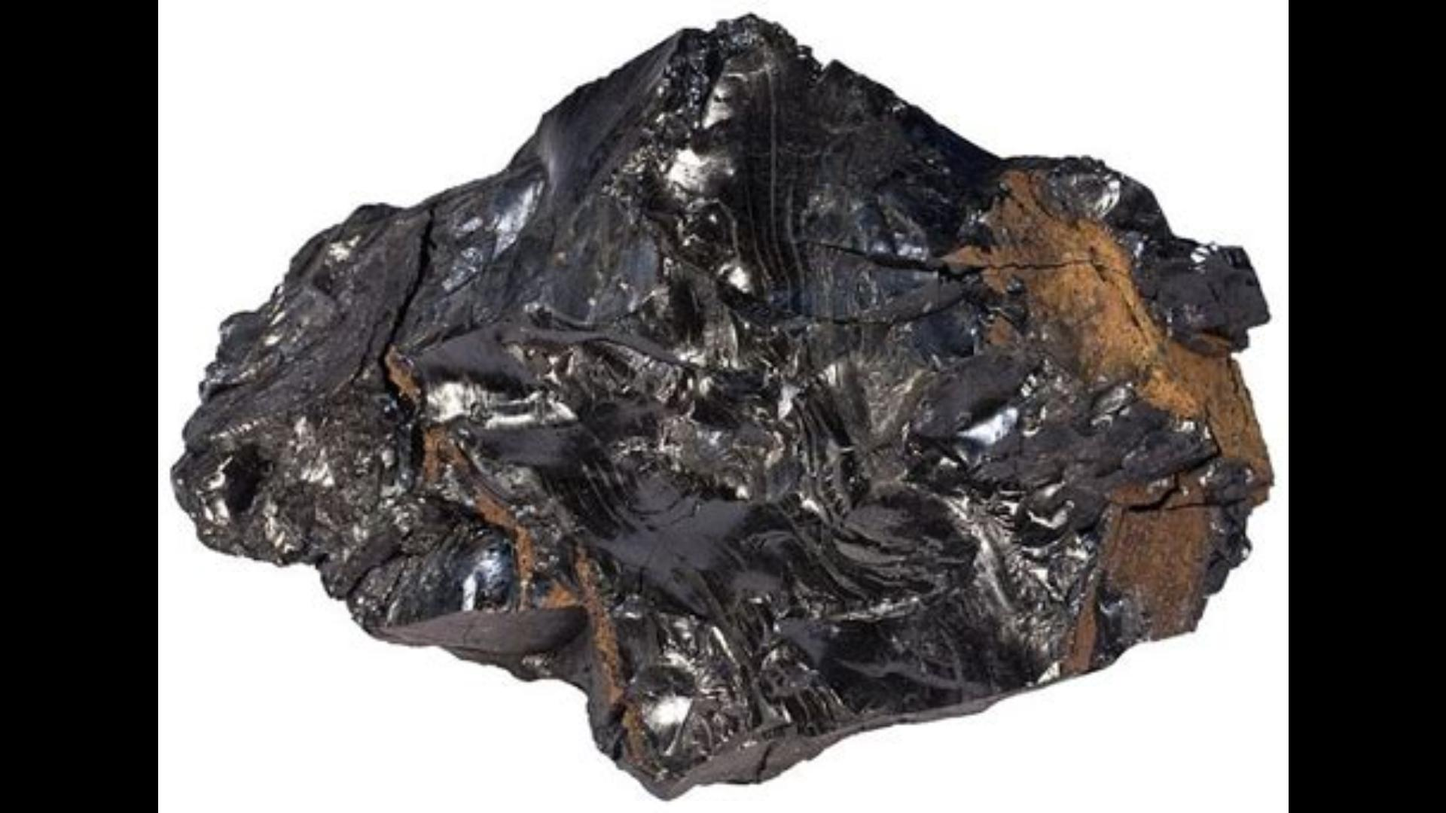rock: (172, 19, 1267, 792)
